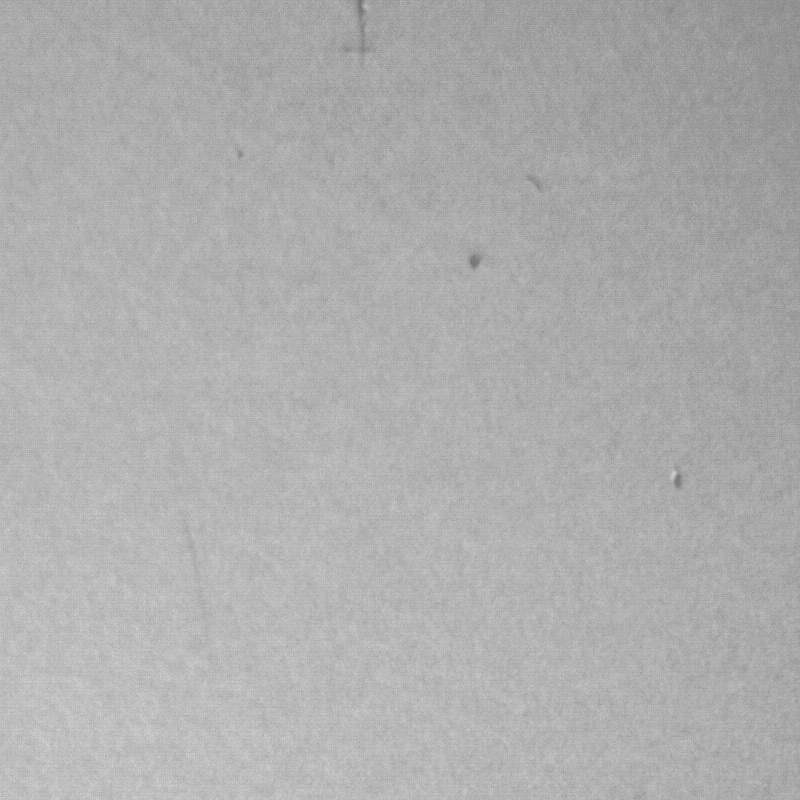defect: (339, 1, 384, 63), (181, 518, 207, 595), (658, 452, 695, 496), (521, 171, 548, 197), (463, 245, 488, 271), (231, 144, 252, 165)
